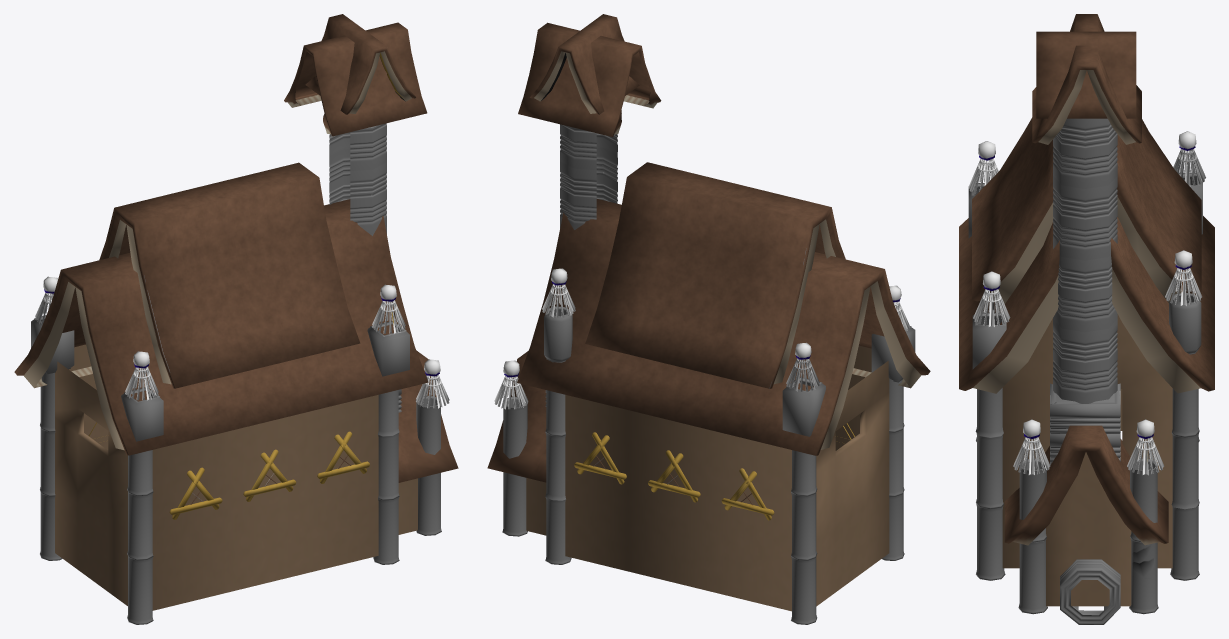
File: church.fbx
The picture shows the model from 3 angles, left to right: view 1: azimuth 30°, elevation 25°; view 2: azimuth 150°, elevation 25°; view 3: azimuth 270°, elevation 25°; orthographic projection. The views are drawn at different scales.
Visible parts, largest first — view 1: Plastic_Cup_Planter.003, Plastic_Cup_Planter.002; view 2: Plastic_Cup_Planter.003, Plastic_Cup_Planter.002; view 3: Plastic_Cup_Planter.003, Plastic_Cup_Planter.002.
Boxes of the visible parts, left/top/right/bottom form: Plastic_Cup_Planter.003: left=14, top=14, right=458, bottom=610; Plastic_Cup_Planter.002: left=31, top=123, right=441, bottom=624; Plastic_Cup_Planter.003: left=487, top=14, right=930, bottom=611; Plastic_Cup_Planter.002: left=502, top=124, right=915, bottom=624; Plastic_Cup_Planter.003: left=959, top=14, right=1214, bottom=606; Plastic_Cup_Planter.002: left=968, top=118, right=1202, bottom=624.
Size of the model in its own units: 2890 by 3857 by 1619.
